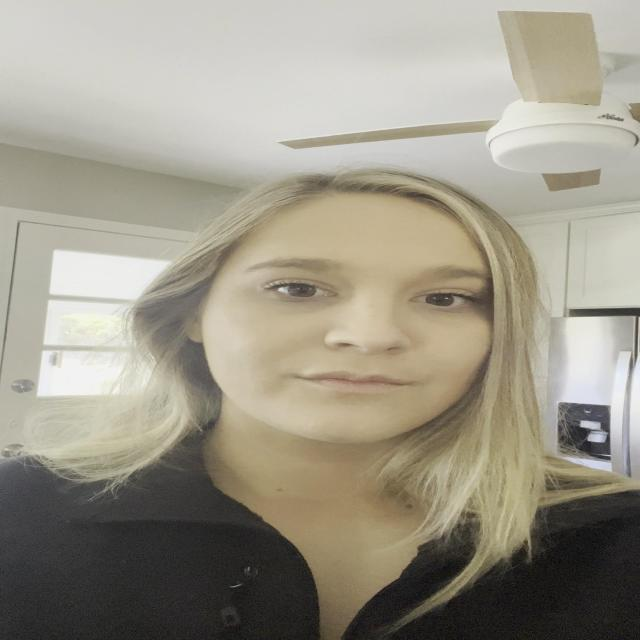no-helmet: (181, 184, 514, 446)
